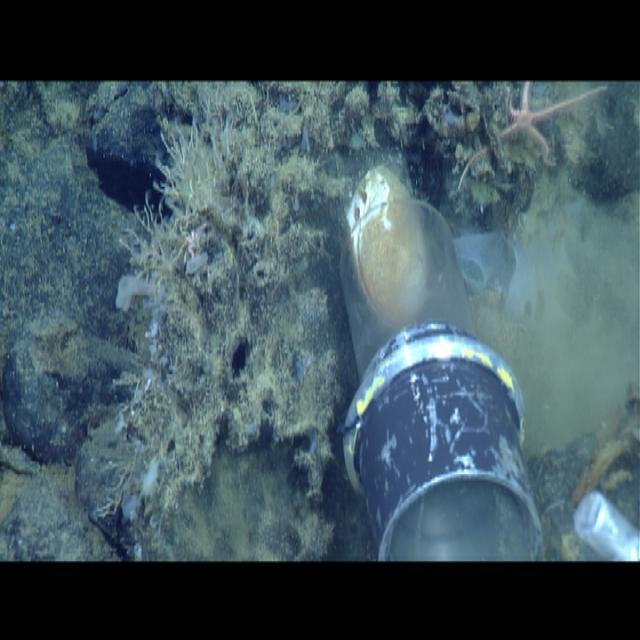Brittle Star: (451, 82, 607, 196)
Not Brittle Star: (331, 190, 550, 558)
